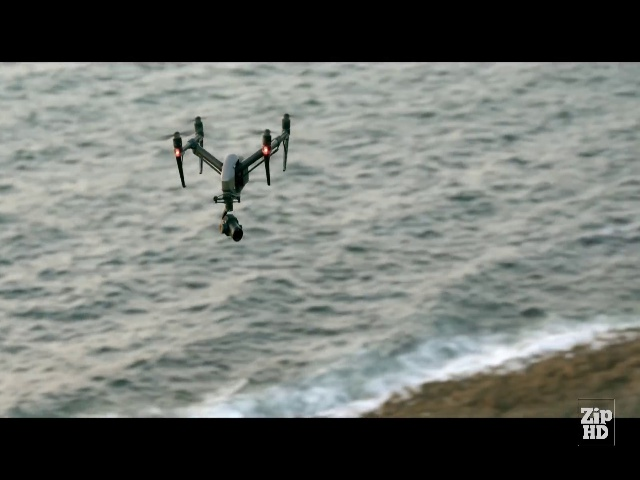drone: (158, 109, 301, 242)
